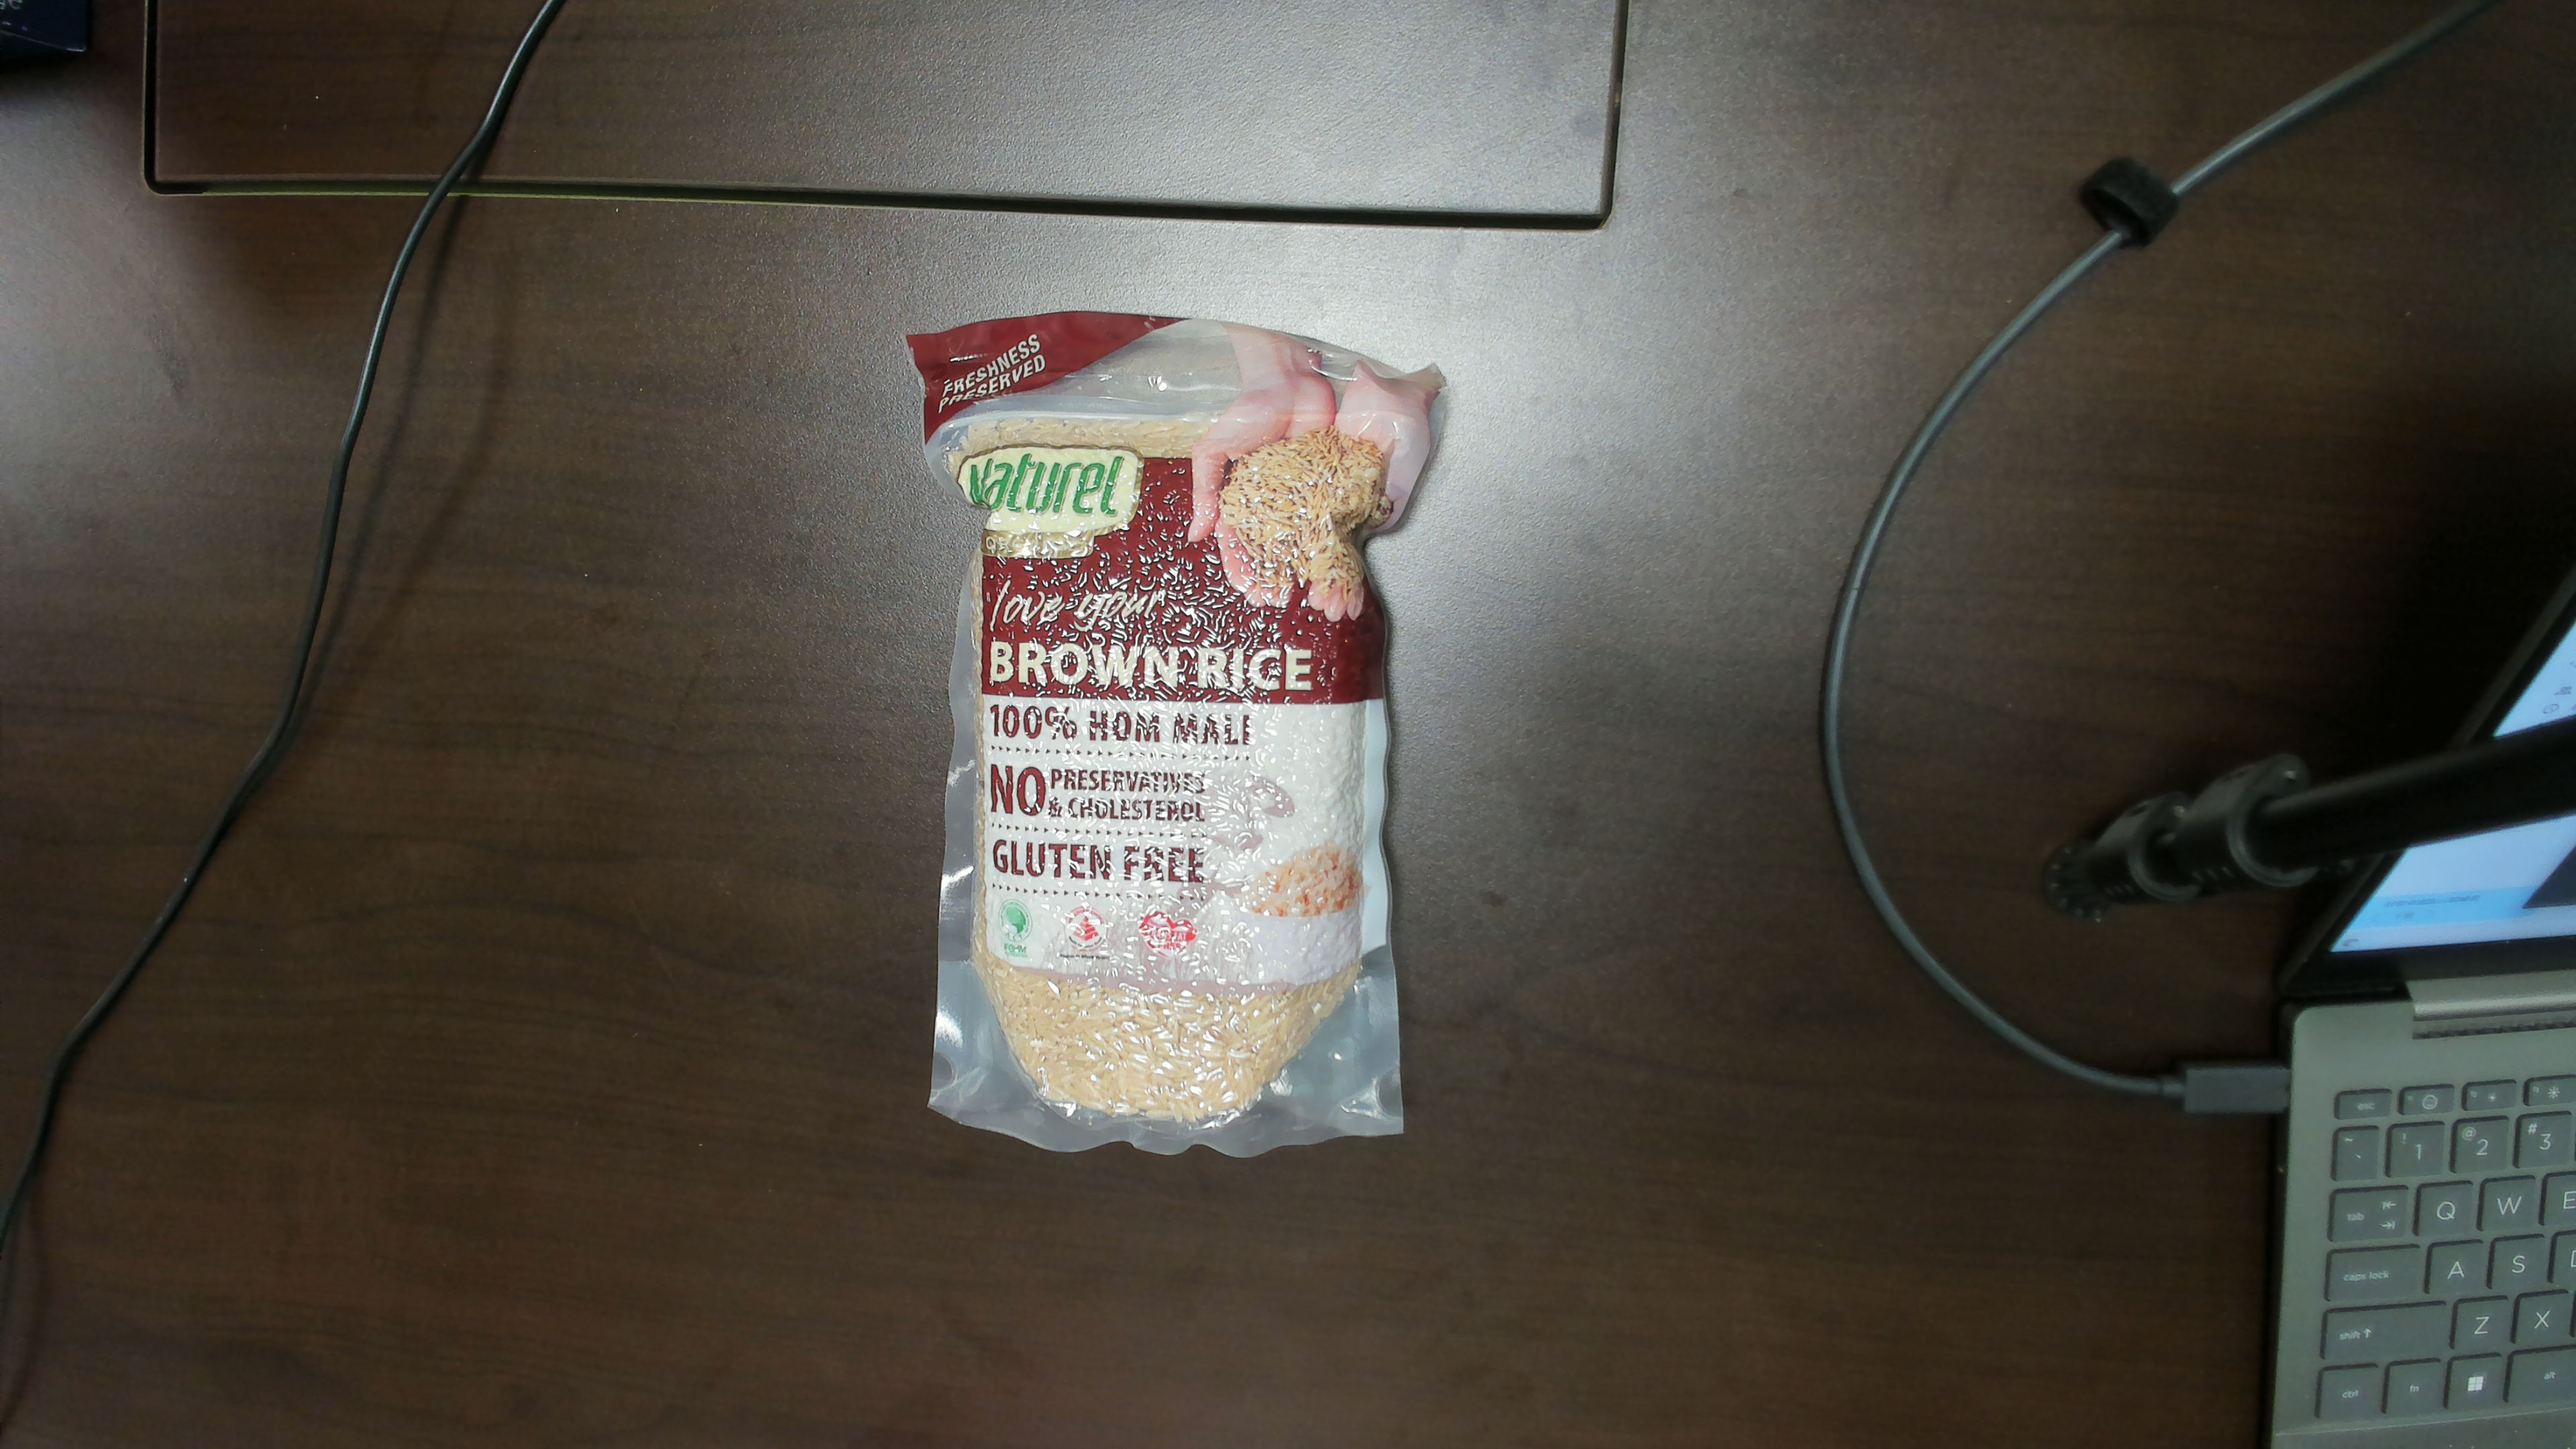Rice(brown-others)_700-799g_NonHalal_Healthy: (943, 340, 1371, 1118)
